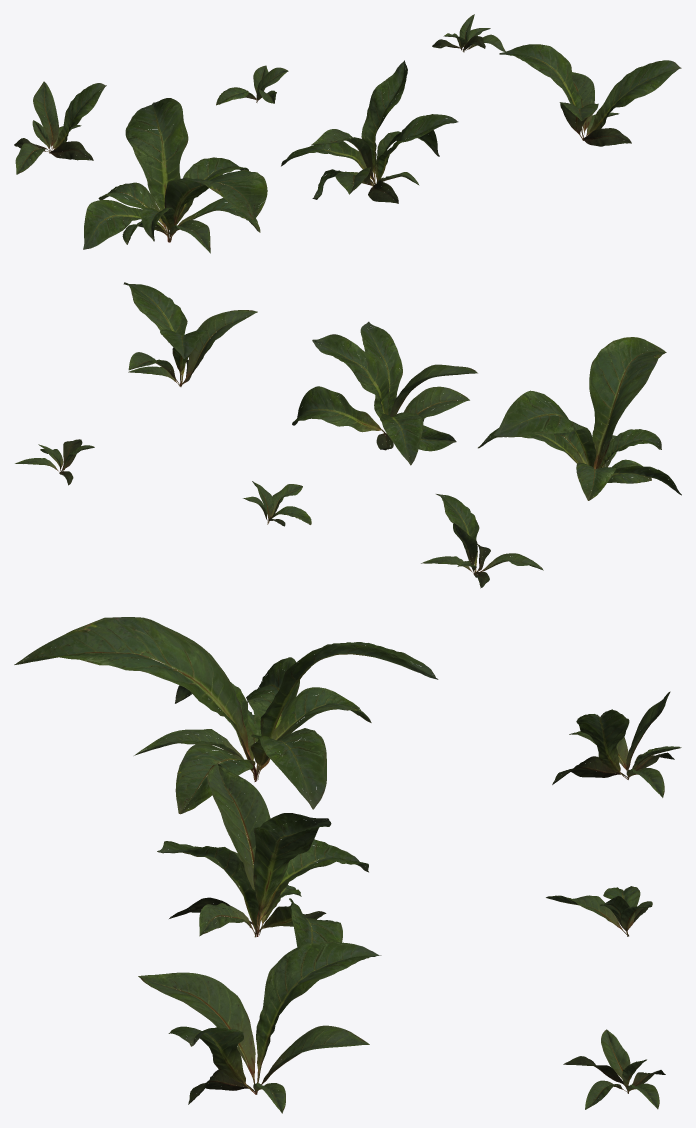
Rendered from anthurium_botany_01.glb.
3 renders of one model, top to bottom at view 1: azimuth 30°, elevation 25°; view 2: azimuth 150°, elevation 25°; view 3: azimuth 270°, elevation 25°, orthographic. The views are drawn at different scales.
Parts seen in each view (by area): view 1: anthurium_botany_01_a, anthurium_botany_01_b, anthurium_botany_01_c, anthurium_botany_04_d, anthurium_botany_05_e, anthurium_botany_06_f; view 2: anthurium_botany_01_a, anthurium_botany_01_b, anthurium_botany_01_c, anthurium_botany_04_d, anthurium_botany_05_e, anthurium_botany_06_f; view 3: anthurium_botany_01_a, anthurium_botany_01_b, anthurium_botany_01_c, anthurium_botany_04_d, anthurium_botany_06_f, anthurium_botany_05_e.
Boxes of the visible parts, bbox=[...] form: anthurium_botany_01_a: bbox=[83, 98, 267, 253]; anthurium_botany_01_b: bbox=[281, 60, 458, 203]; anthurium_botany_01_c: bbox=[499, 44, 681, 146]; anthurium_botany_04_d: bbox=[14, 81, 106, 174]; anthurium_botany_05_e: bbox=[216, 65, 288, 105]; anthurium_botany_06_f: bbox=[432, 14, 505, 52]; anthurium_botany_01_a: bbox=[478, 337, 681, 500]; anthurium_botany_01_b: bbox=[292, 321, 477, 465]; anthurium_botany_01_c: bbox=[123, 282, 257, 386]; anthurium_botany_04_d: bbox=[421, 494, 543, 588]; anthurium_botany_05_e: bbox=[243, 481, 311, 526]; anthurium_botany_06_f: bbox=[15, 439, 94, 485]; anthurium_botany_01_a: bbox=[14, 617, 438, 814]; anthurium_botany_01_b: bbox=[157, 763, 368, 980]; anthurium_botany_01_c: bbox=[138, 941, 381, 1113]; anthurium_botany_04_d: bbox=[552, 691, 681, 797]; anthurium_botany_06_f: bbox=[563, 1029, 665, 1109]; anthurium_botany_05_e: bbox=[546, 886, 652, 936].
Bounding box in the file's own units: 2.8 × 0.4996 × 1.8.
Materials: 1 (1 with a texture image).
